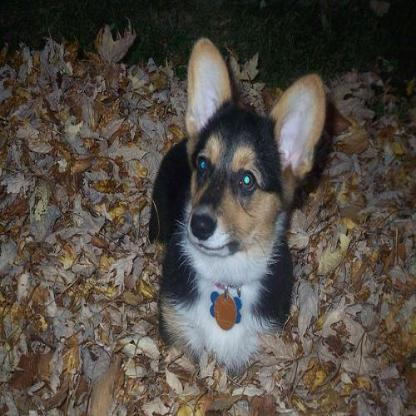Pembroke: (148, 37, 330, 375)
